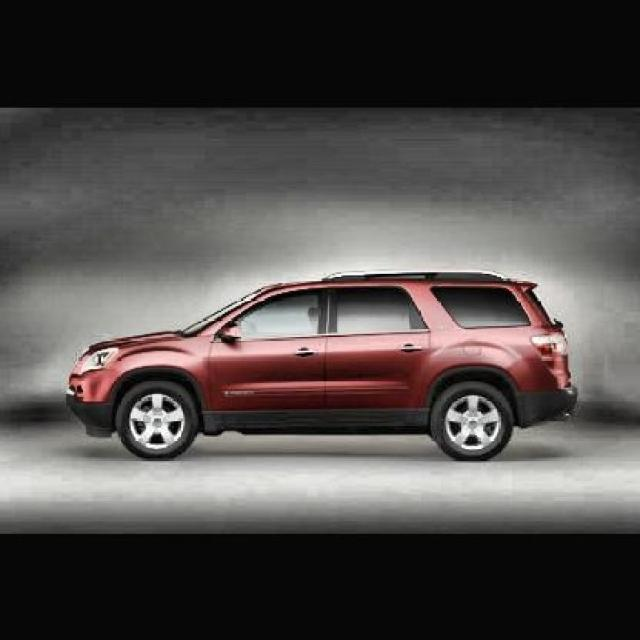maroon: (61, 264, 587, 449)
